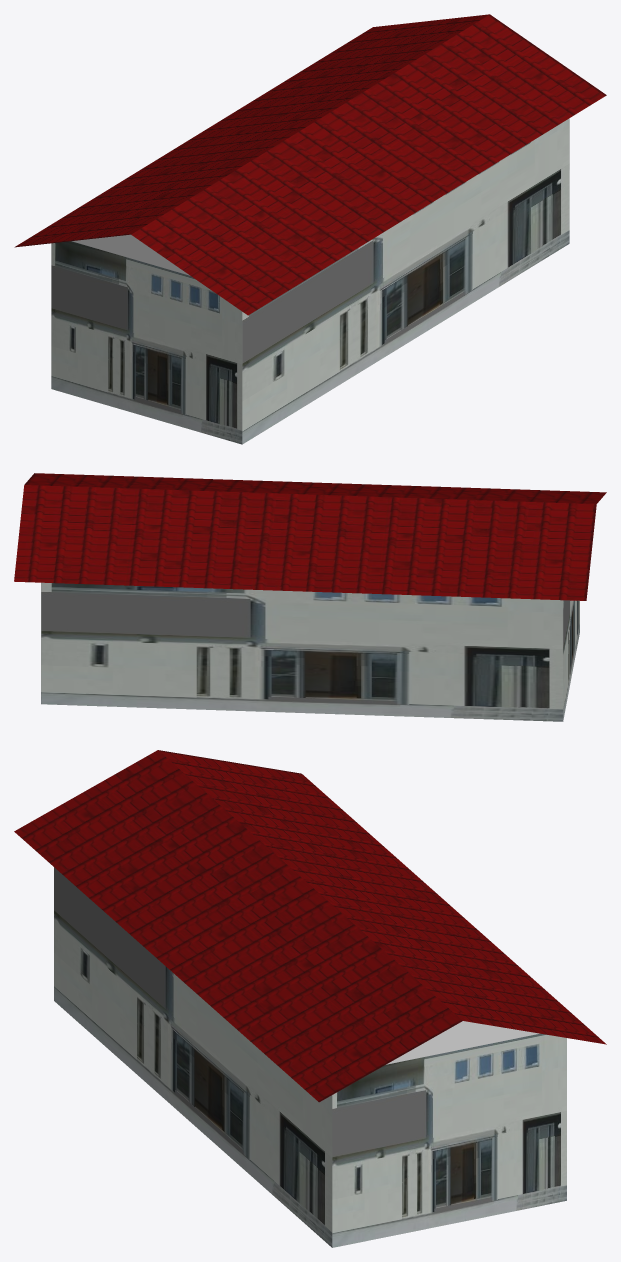
The picture shows the model from 3 angles, top to bottom: view 1: azimuth 30°, elevation 25°; view 2: azimuth 150°, elevation 25°; view 3: azimuth 270°, elevation 25°; orthographic projection. The views are drawn at different scales.
Parts seen in each view (by area): view 1: CityEngineMaterial_17_m, CityEngineMaterial_11_m, CityEngineMaterial_3_m; view 2: CityEngineMaterial_11_m, CityEngineMaterial_17_m; view 3: CityEngineMaterial_17_m, CityEngineMaterial_11_m, CityEngineMaterial_3_m.
Part boxes in pixels (x1,y1,x2,y2): CityEngineMaterial_17_m: [14, 14, 606, 315]; CityEngineMaterial_11_m: [51, 118, 569, 444]; CityEngineMaterial_3_m: [72, 234, 189, 275]; CityEngineMaterial_11_m: [41, 582, 579, 721]; CityEngineMaterial_17_m: [14, 473, 606, 600]; CityEngineMaterial_17_m: [14, 750, 606, 1102]; CityEngineMaterial_11_m: [54, 867, 566, 1247]; CityEngineMaterial_3_m: [386, 1021, 539, 1064].
Bounding box in the file's own units: 24.84 × 7.58 × 18.93.
